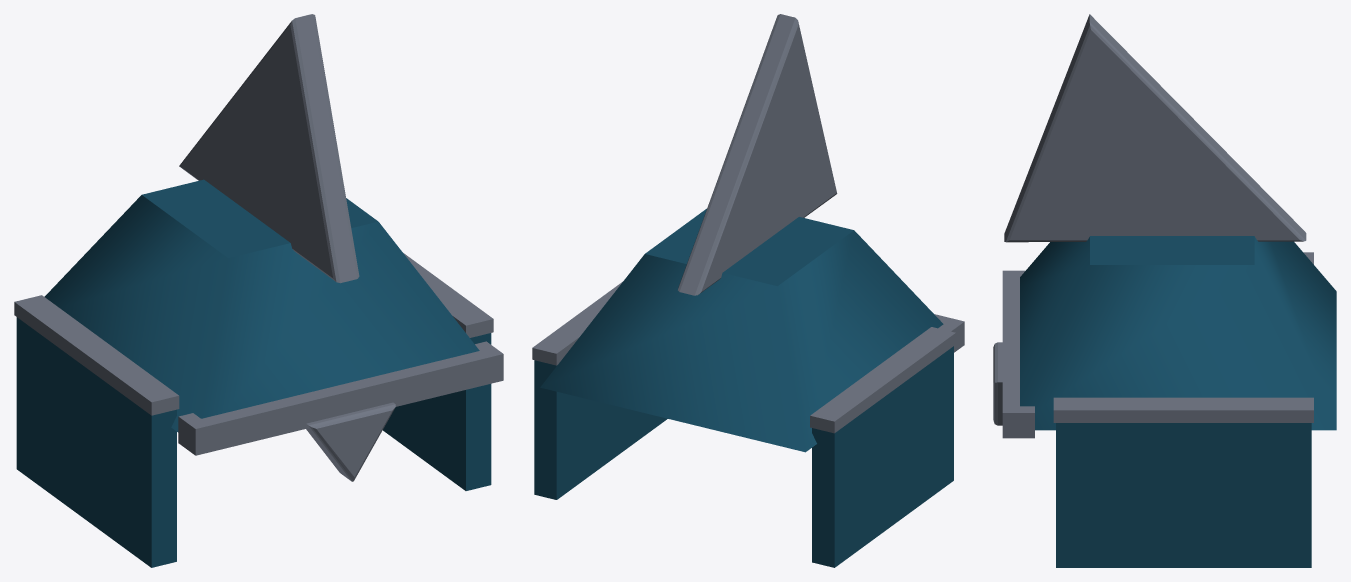
Rendered from hat_eqsu0.glb.
The picture shows the model from 3 angles, left to right: view 1: azimuth 30°, elevation 25°; view 2: azimuth 150°, elevation 25°; view 3: azimuth 270°, elevation 25°; orthographic projection. The views are drawn at different scales.
Size of the model in its own units: 2.33 by 3.24 by 2.14.
